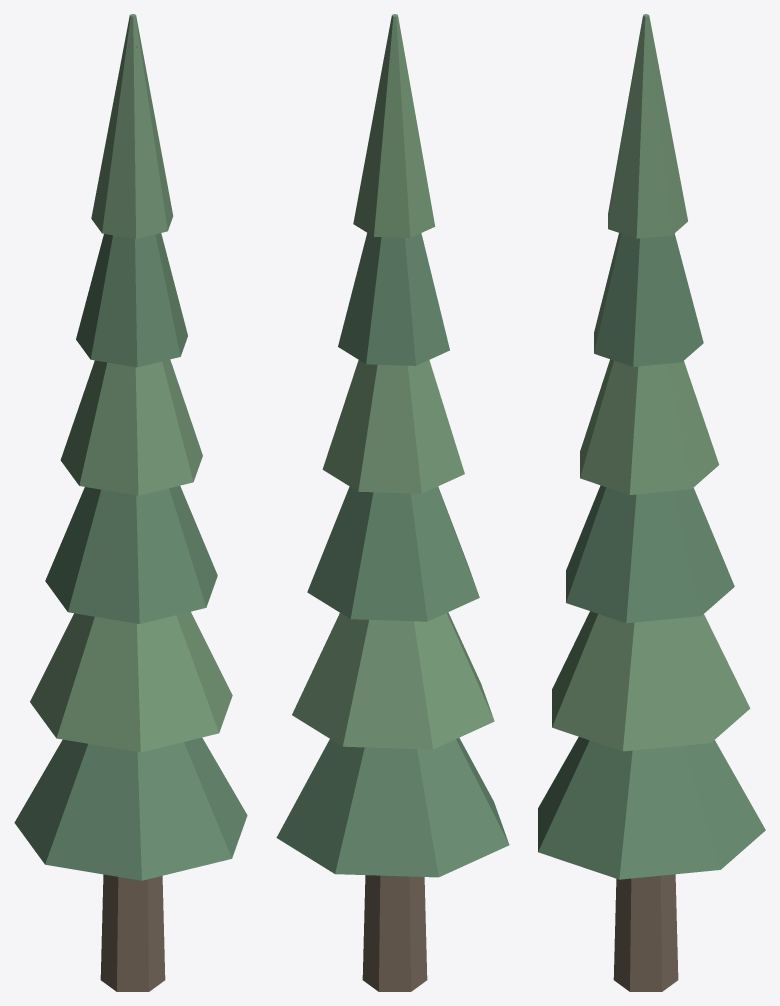
File: pine_v32.glb
The picture shows the model from 3 angles, left to right: view 1: azimuth 30°, elevation 25°; view 2: azimuth 150°, elevation 25°; view 3: azimuth 270°, elevation 25°; orthographic projection.
Parts seen in each view (by area): view 1: lod0; view 2: lod0; view 3: lod0.
Part boxes in pixels (x1,y1,x2,y2): lod0: (14, 14, 247, 991); lod0: (276, 14, 509, 991); lod0: (538, 14, 765, 991).
Size of what is drawn, in the model's own units: 1.45 by 6.59 by 1.41.
